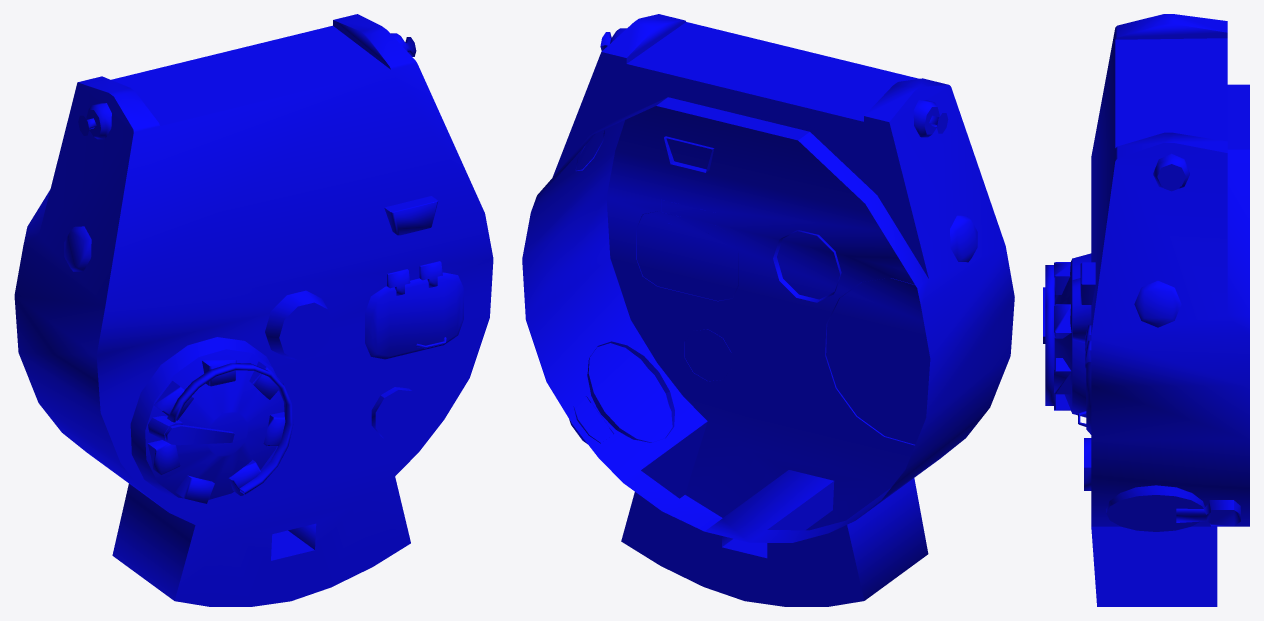
The model's file is Turret_02.obj.
The picture shows the model from 3 angles, left to right: view 1: azimuth 30°, elevation 25°; view 2: azimuth 150°, elevation 25°; view 3: azimuth 270°, elevation 25°; orthographic projection. The views are drawn at different scales.
Parts seen in each view (by area): view 1: 3D_Object_1; view 2: 3D_Object_1; view 3: 3D_Object_1.
Boxes of the visible parts, x1=… form: 3D_Object_1: x1=14, y1=14, x2=493, y2=606; 3D_Object_1: x1=522, y1=14, x2=1014, y2=606; 3D_Object_1: x1=1043, y1=14, x2=1249, y2=606.
Bounding box in the file's own units: 2.34 × 2.89 × 1.09.
